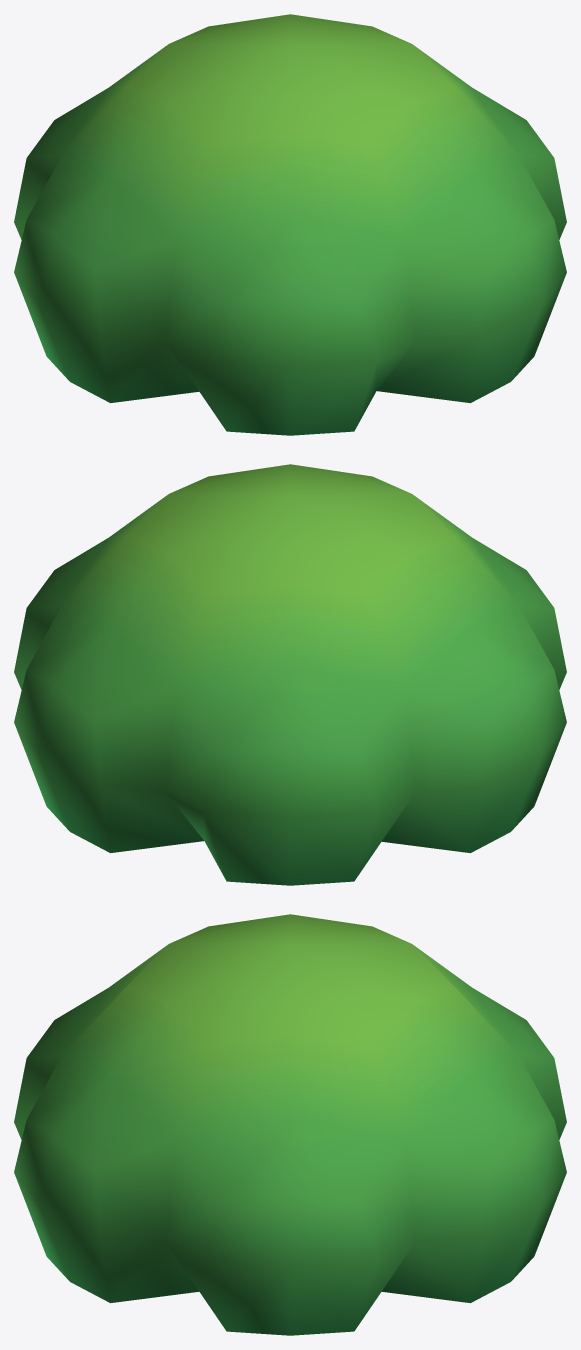
File: prop_park_bush.glb
3 renders of one model, top to bottom at view 1: azimuth 30°, elevation 25°; view 2: azimuth 150°, elevation 25°; view 3: azimuth 270°, elevation 25°, orthographic.
Visible parts, largest first — view 1: bush; view 2: bush; view 3: bush.
Part boxes in pixels (x1,y1,x2,y2): bush: (14, 14, 566, 435); bush: (14, 464, 566, 885); bush: (14, 914, 566, 1335).
Bounding box in the file's own units: 1 × 0.5385 × 0.9535.
Materials: 1 (1 with a texture image).
